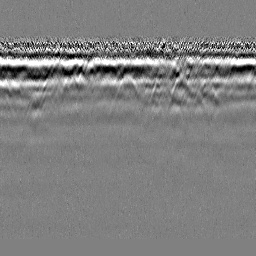cavity: (115, 74, 139, 102)
